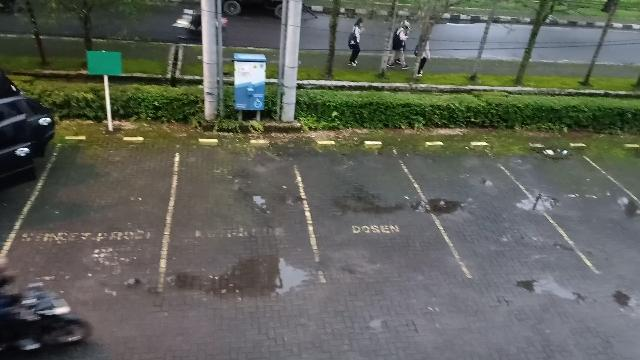empty: (20, 136, 176, 294), (168, 136, 312, 290), (306, 140, 434, 286), (429, 140, 551, 280), (539, 142, 633, 276)
